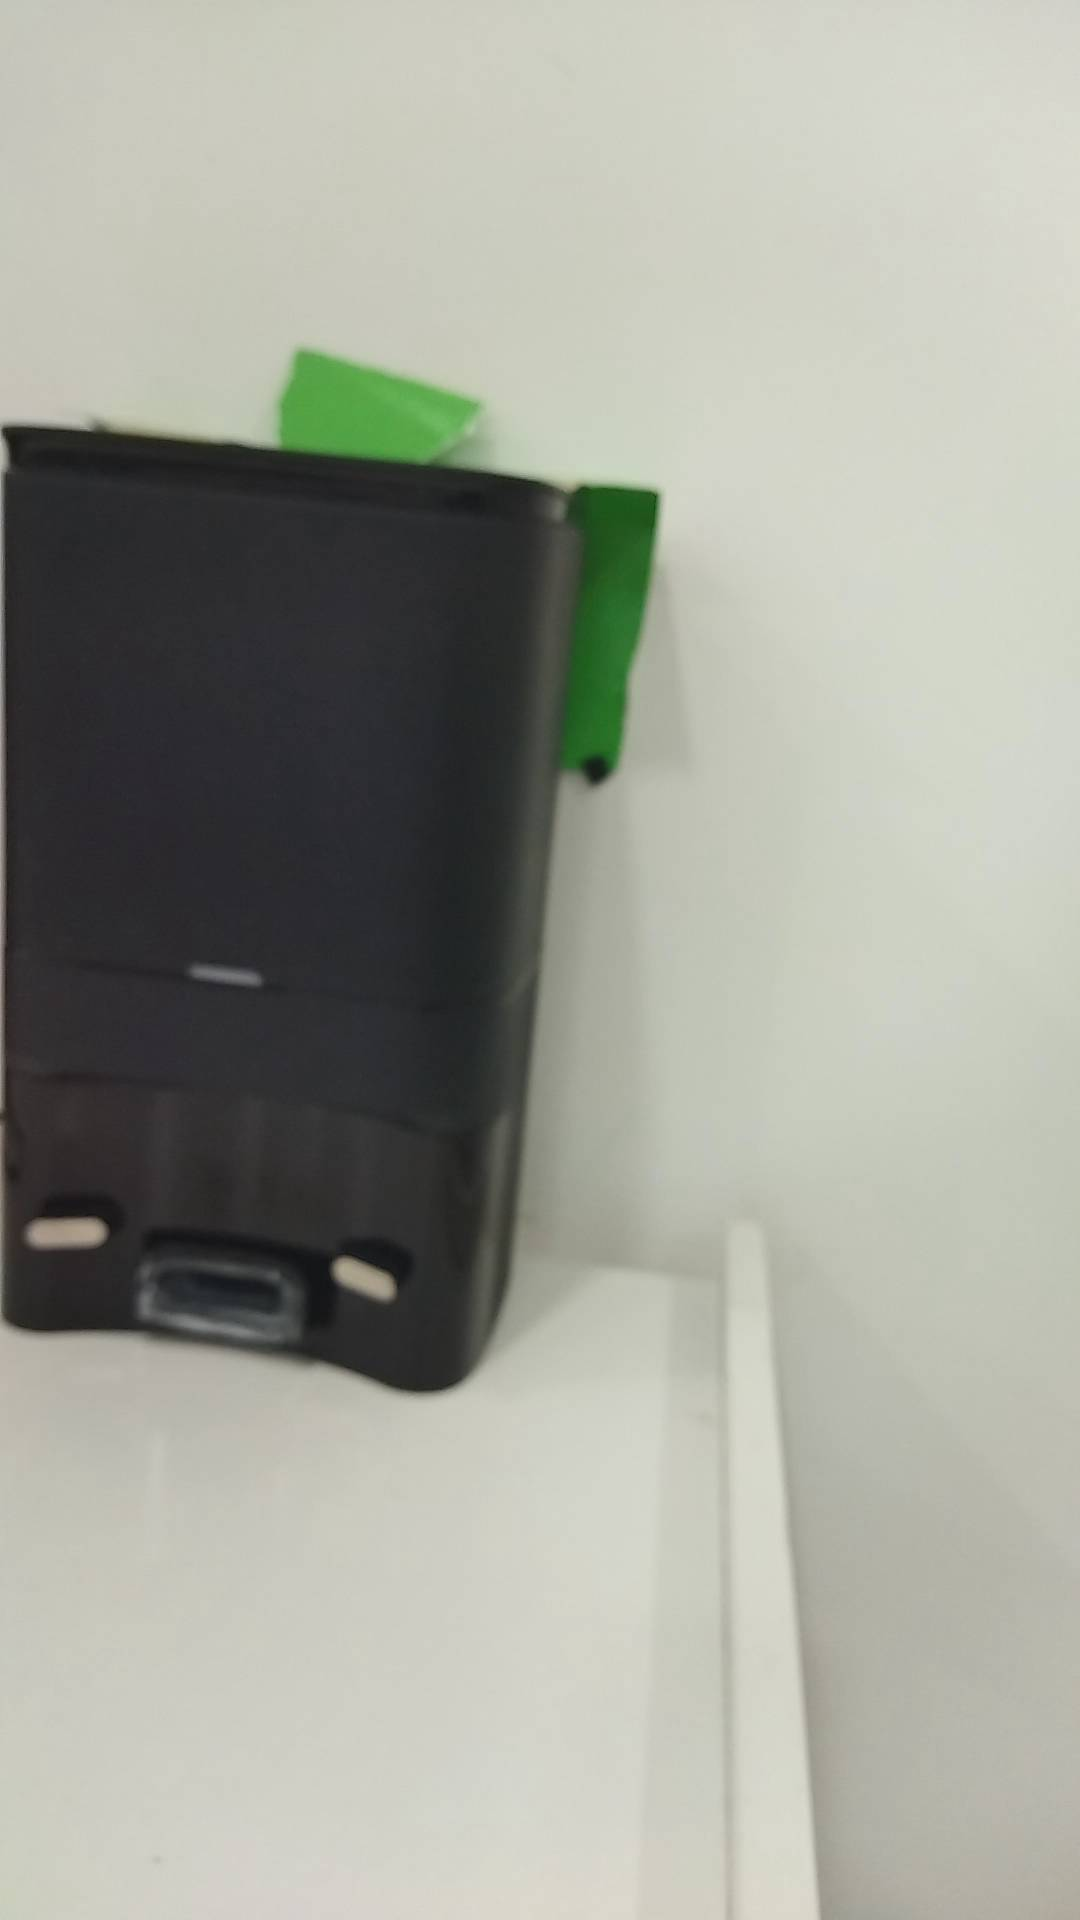dust collecting barrel: (1, 425, 585, 1393)
